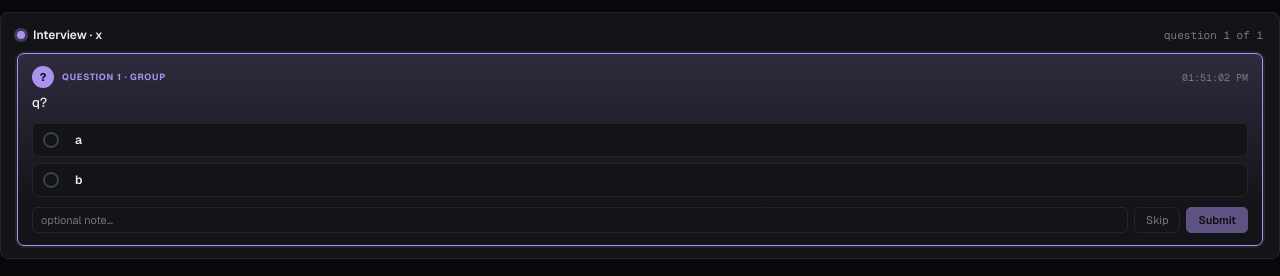
Test: PrereqInterview › Skip POSTs answers: []
Click the button "Skip": (1157, 220) x1=1134 y1=207 x2=1180 y2=233
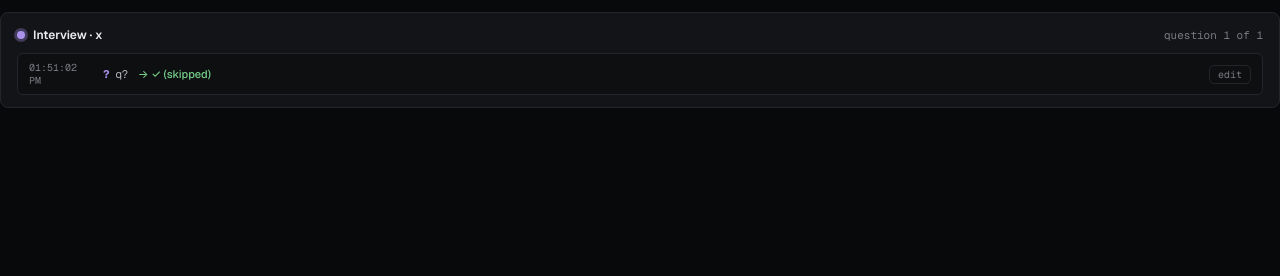
Expected: the text "→ ✓ (skipped)" is shown, x1=138 y1=67 x2=211 y2=81
